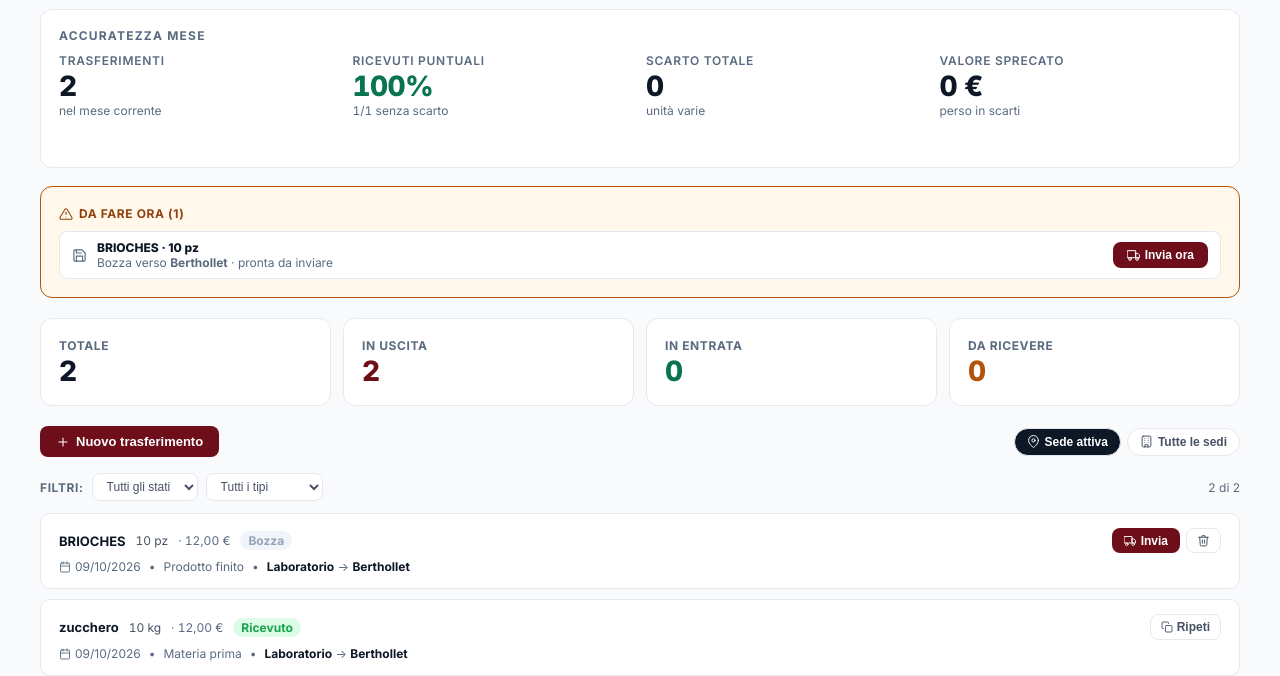
Scenario: filtri e liste › il filtro sullo stato mostra solo quello chiesto, e dichiara quanti ne restano
This screenshot has width=1280, height=676.
(page scrolled)
Select "Bozza" in the 2nd dropdown at coordinates (145, 487), box [92,473,198,501]
(page scrolled)
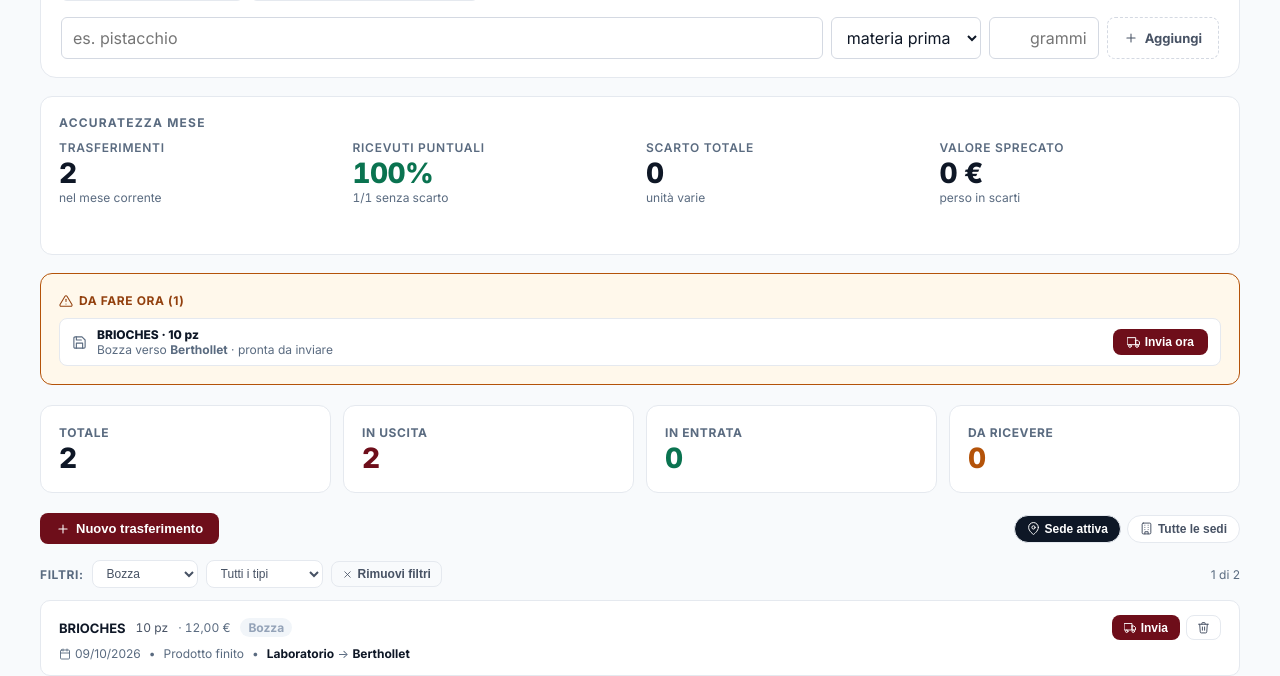
Expected: the text "BRIOCHES" is shown, [97,327,159,342]
Expected: the text "zucchero" is gone
Expected: the text "1 di 2" is shown, [1211,567,1240,582]
